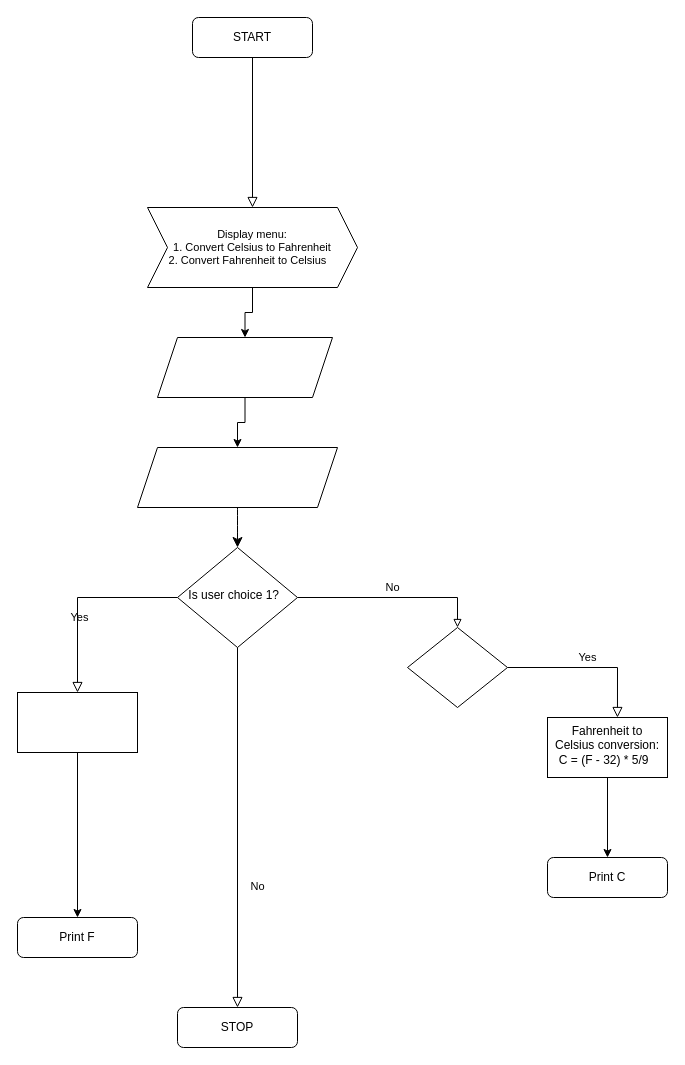
Image size: 685x1065. Some labels were removed from this diagram. Each missing label, with the centre of its shape:
"Celsius to Fahrenheit conversion: F = (C * 9/5) + 32" goes at point (77, 722).
"Is user choice 2?" goes at point (457, 667).
"Read temperature value" goes at point (237, 477).
"Read user choice" goes at point (244, 367).
